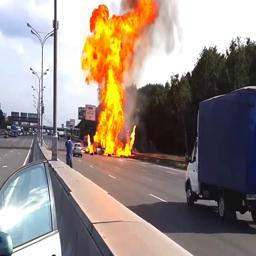fire: (81, 0, 159, 156)
